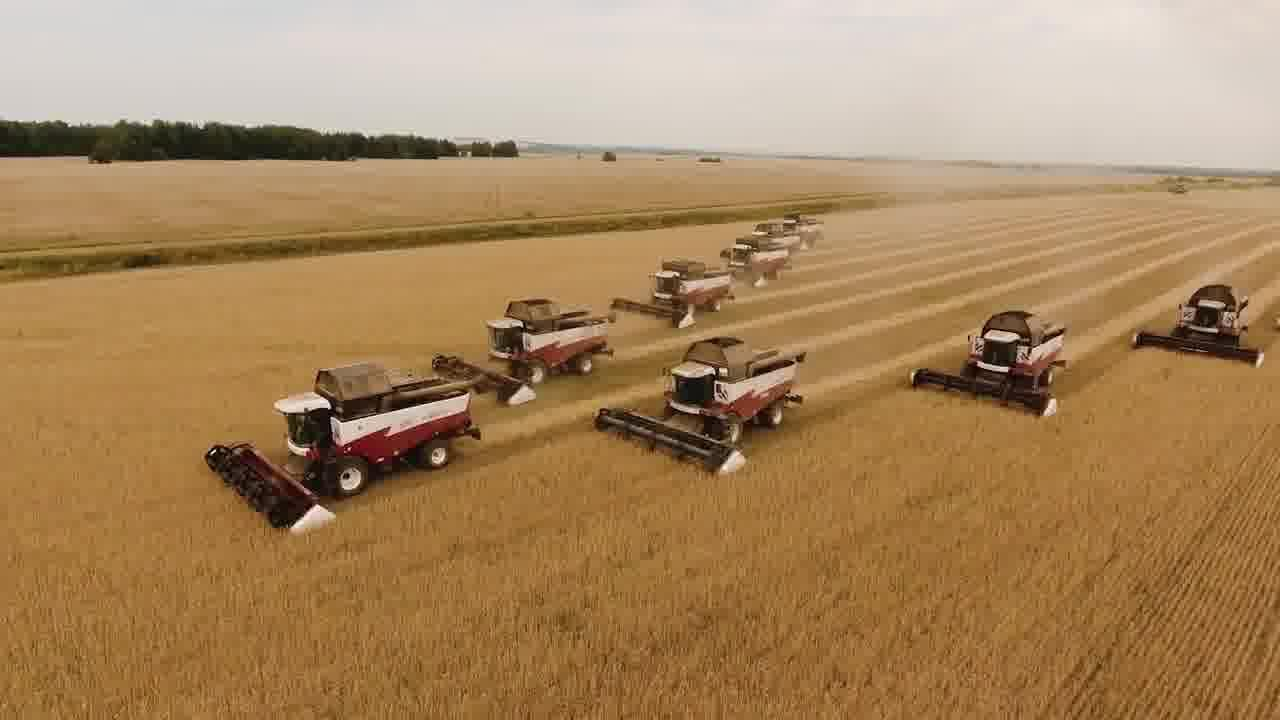combine harvester: (202, 357, 485, 542), (589, 330, 810, 481), (429, 294, 618, 412), (906, 307, 1071, 424), (1125, 281, 1268, 371), (606, 254, 737, 331), (711, 229, 791, 295), (764, 206, 827, 251)
